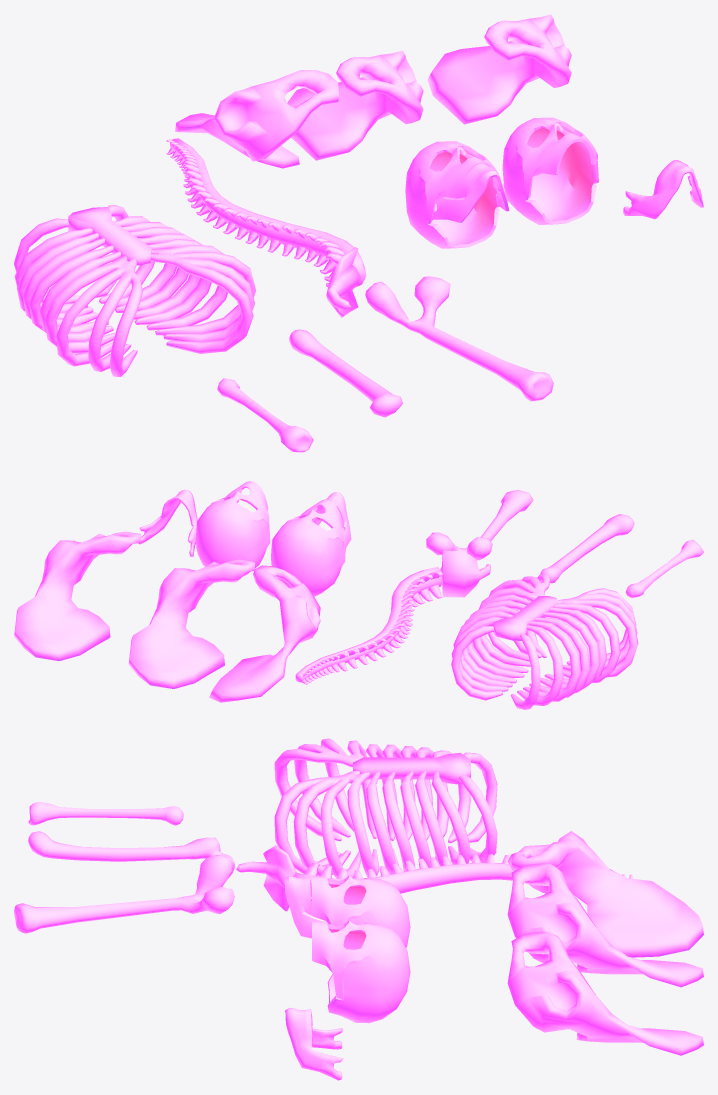
Rendered from Bones.gltf.
The picture shows the model from 3 angles, top to bottom: view 1: azimuth 30°, elevation 25°; view 2: azimuth 150°, elevation 25°; view 3: azimuth 270°, elevation 25°; orthographic projection. The views are drawn at different scales.
Parts seen in each view (by area): view 1: Ribs, HipBone_1, HipBone_2, Skull_1, Skull_2, Spine, Bone_3, Bone_2, Jaw, Bone_1; view 2: Ribs, HipBone_1, HipBone_2, Spine, Skull_1, Skull_2, Bone_3, Bone_2, Jaw, Bone_1; view 3: Ribs, HipBone_1, HipBone_2, Skull_2, Skull_1, Spine, Bone_3, Bone_2, Jaw, Bone_1.
Part boxes in pixels (x1,y1,x2,y2): Ribs: (14,205,256,376); HipBone_1: (175,50,423,168); HipBone_2: (427,14,571,124); Skull_1: (405,141,509,248); Skull_2: (502,117,598,224); Spine: (166,138,366,317); Bone_3: (365,276,553,401); Bone_2: (289,329,403,417); Jaw: (623,160,703,219); Bone_1: (217,378,313,452); Ribs: (451,574,638,709); HipBone_1: (128,559,320,702); HipBone_2: (14,531,140,660); Spine: (295,550,490,684); Skull_1: (271,492,351,596); Skull_2: (195,481,270,576); Bone_3: (426,489,533,560); Bone_2: (530,514,634,585); Jaw: (138,489,197,556); Bone_1: (625,539,703,598); Ribs: (274,738,497,878); HipBone_1: (507,831,703,987); HipBone_2: (507,931,703,1055); Skull_2: (312,920,410,1023); Skull_1: (284,876,410,948); Spine: (236,845,633,911); Bone_3: (14,855,234,933); Bone_2: (28,831,235,869); Jaw: (285,1008,343,1080); Bone_1: (28,802,183,825).
Size of the model in its own units: 1.64 by 0.3357 by 1.62.
